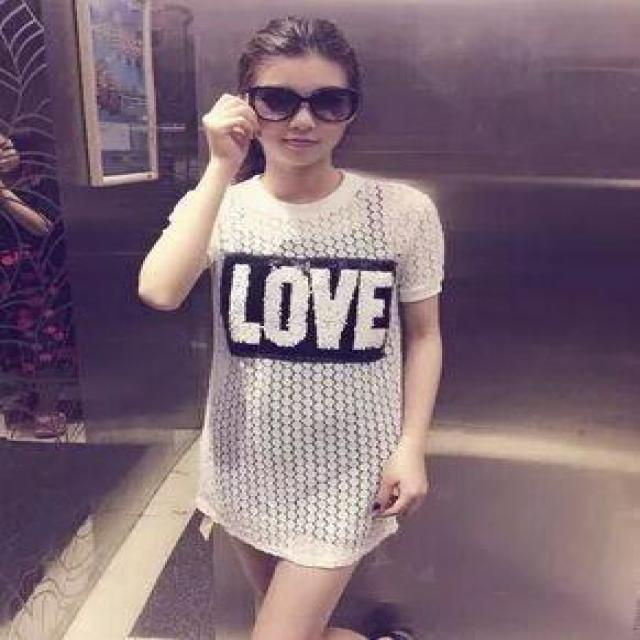short sleeve dress: (154, 175, 444, 565)
